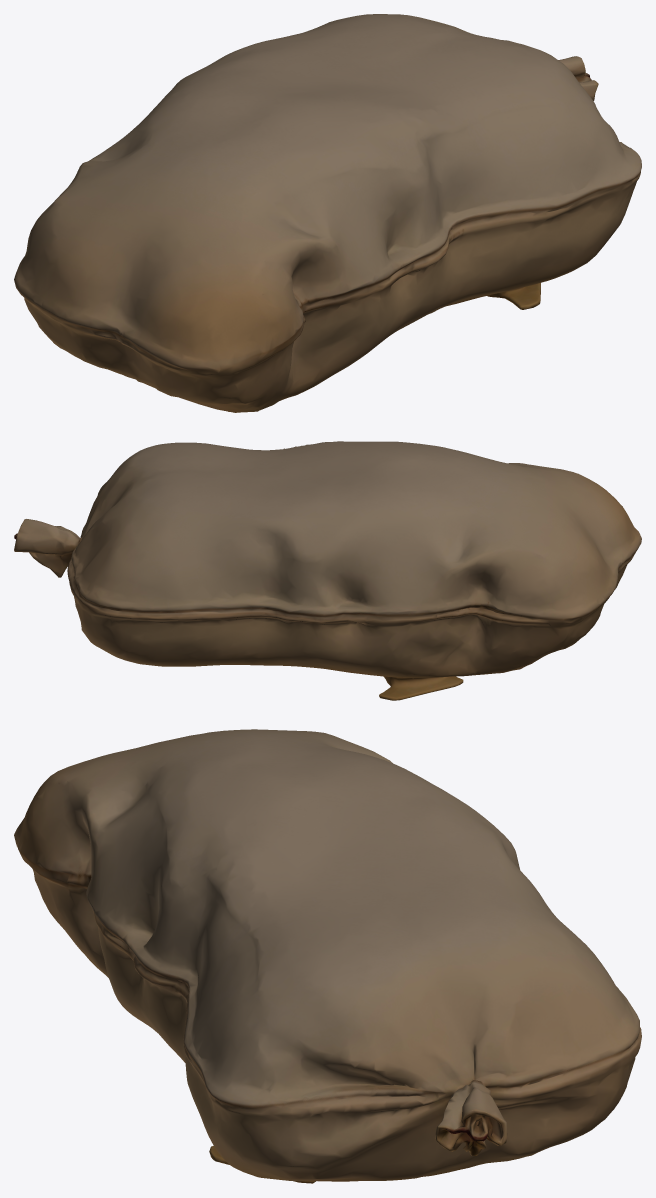
The picture shows the model from 3 angles, top to bottom: view 1: azimuth 30°, elevation 25°; view 2: azimuth 150°, elevation 25°; view 3: azimuth 270°, elevation 25°; orthographic projection. The views are drawn at different scales.
Parts seen in each view (by area): view 1: tripo_node_a2bc464d-578a-463e-bbec-b8e52e916f09; view 2: tripo_node_a2bc464d-578a-463e-bbec-b8e52e916f09; view 3: tripo_node_a2bc464d-578a-463e-bbec-b8e52e916f09.
Part boxes in pixels (left/top/right/bottom): tripo_node_a2bc464d-578a-463e-bbec-b8e52e916f09: left=14, top=14, right=641, bottom=412; tripo_node_a2bc464d-578a-463e-bbec-b8e52e916f09: left=14, top=441, right=641, bottom=700; tripo_node_a2bc464d-578a-463e-bbec-b8e52e916f09: left=14, top=729, right=641, bottom=1183.
Size of the model in its own units: 1 by 0.3397 by 0.7528.
Materials: 1 (1 with a texture image).
